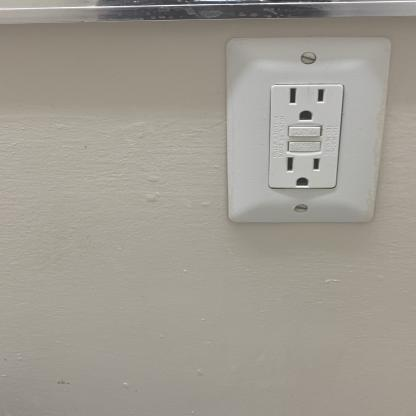OUTLET: (225, 36, 385, 226)
